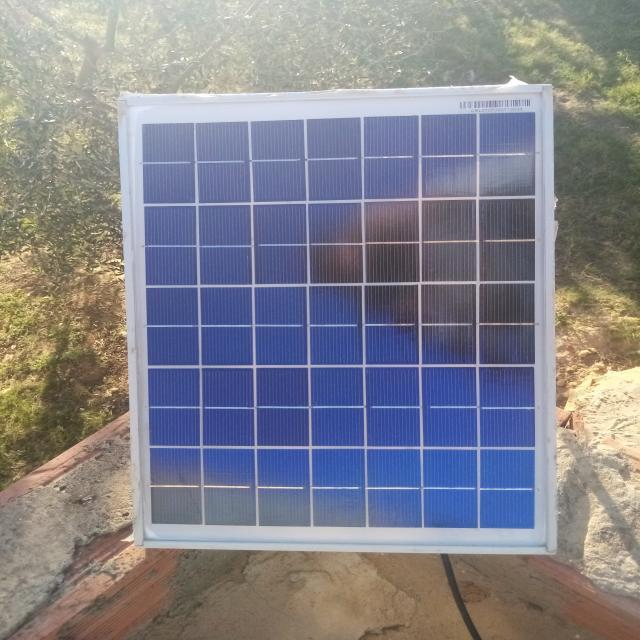no faulty: (121, 86, 556, 552)
